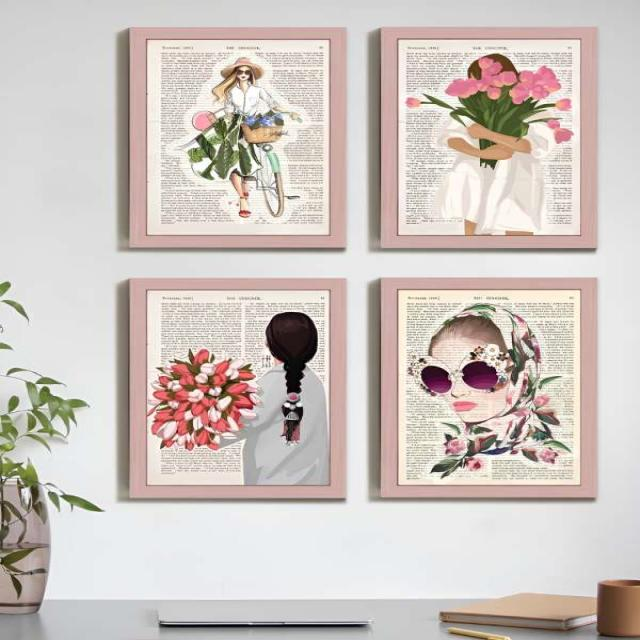painting: (129, 280, 347, 502), (380, 277, 598, 499), (381, 27, 599, 249), (127, 29, 345, 251)
